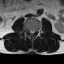CCS_normal: (30, 28, 32, 38)
LFS_severe_stenosis: (34, 28, 36, 34)
LLS_stenosis: (32, 28, 34, 35)
RFS_severe_stenosis: (27, 28, 29, 34)
RLS_normal: (29, 28, 30, 34)
